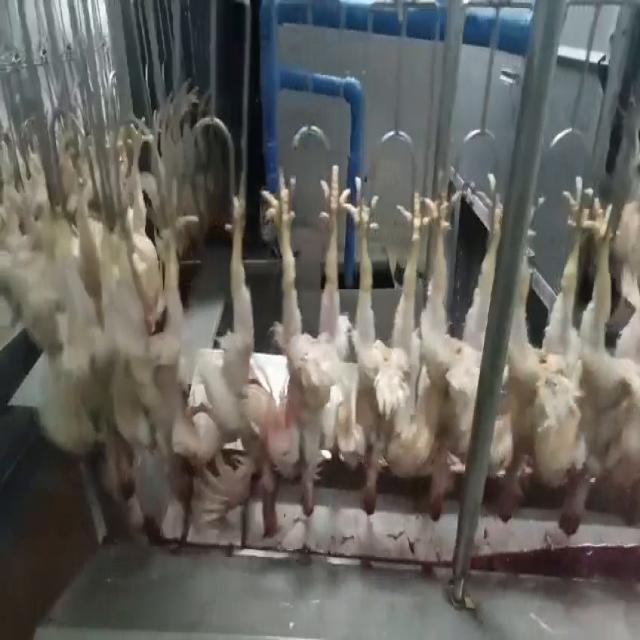chicken: (151, 177, 255, 536), (406, 176, 506, 529), (262, 160, 356, 522), (554, 184, 640, 536), (342, 181, 432, 517), (75, 210, 146, 527), (489, 234, 563, 520)
